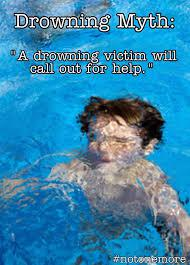drowning: (54, 92, 190, 239)
